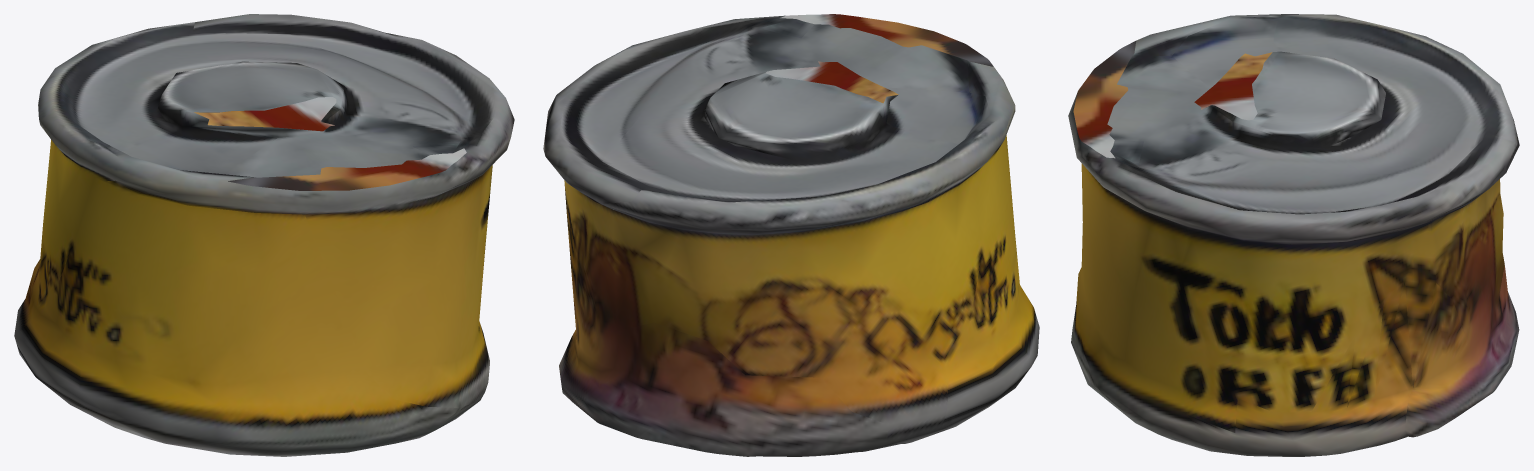
Rendered from Food1.2.fbx.
3 views of the same model, side by side, from view 1: azimuth 30°, elevation 25°; view 2: azimuth 150°, elevation 25°; view 3: azimuth 270°, elevation 25° (orthographic). The views are drawn at different scales.
Parts seen in each view (by area): view 1: tripo_node_cc436b14; view 2: tripo_node_cc436b14; view 3: tripo_node_cc436b14.
Part boxes in pixels (x1,y1,x2,y2): tripo_node_cc436b14: (14, 14, 514, 456); tripo_node_cc436b14: (543, 14, 1039, 456); tripo_node_cc436b14: (1068, 14, 1519, 456).
Bounding box in the file's own units: 14.8 × 9.75 × 14.03.
Materials: 1 (1 with a texture image).
